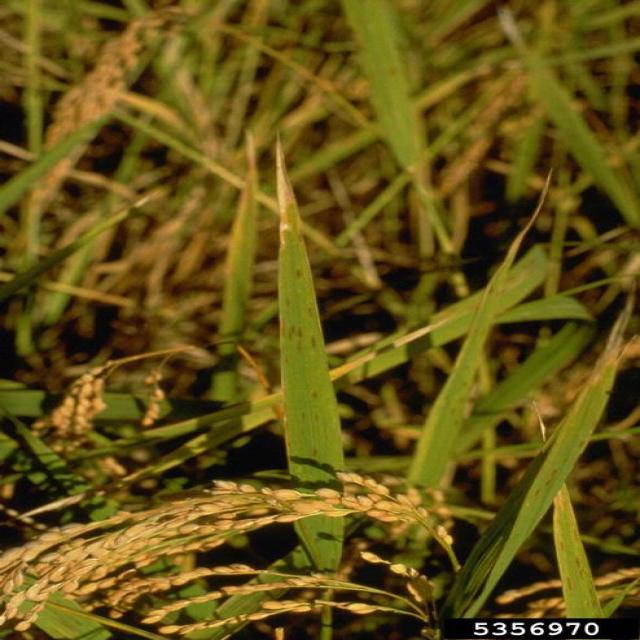Brown spot: (277, 322, 309, 340), (288, 263, 306, 282), (280, 292, 294, 308), (310, 387, 324, 401), (309, 337, 322, 351), (308, 304, 318, 318), (312, 412, 321, 422), (310, 448, 320, 457), (300, 411, 308, 422)
